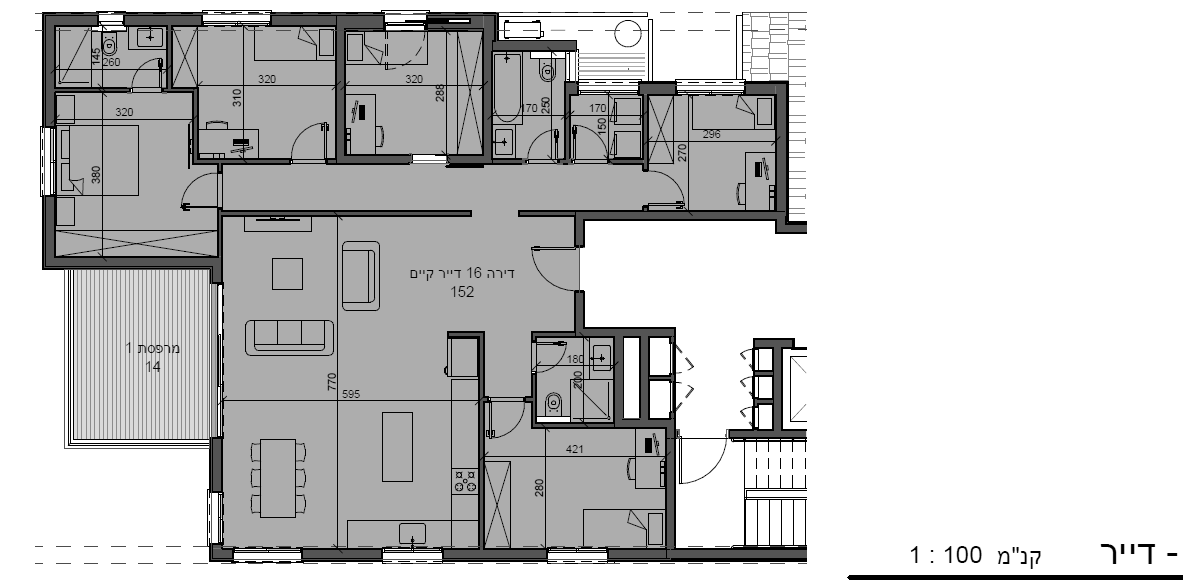door: (526, 244, 574, 291), (486, 404, 534, 451), (677, 440, 725, 487), (179, 170, 216, 213), (288, 121, 330, 157), (650, 167, 685, 209)
